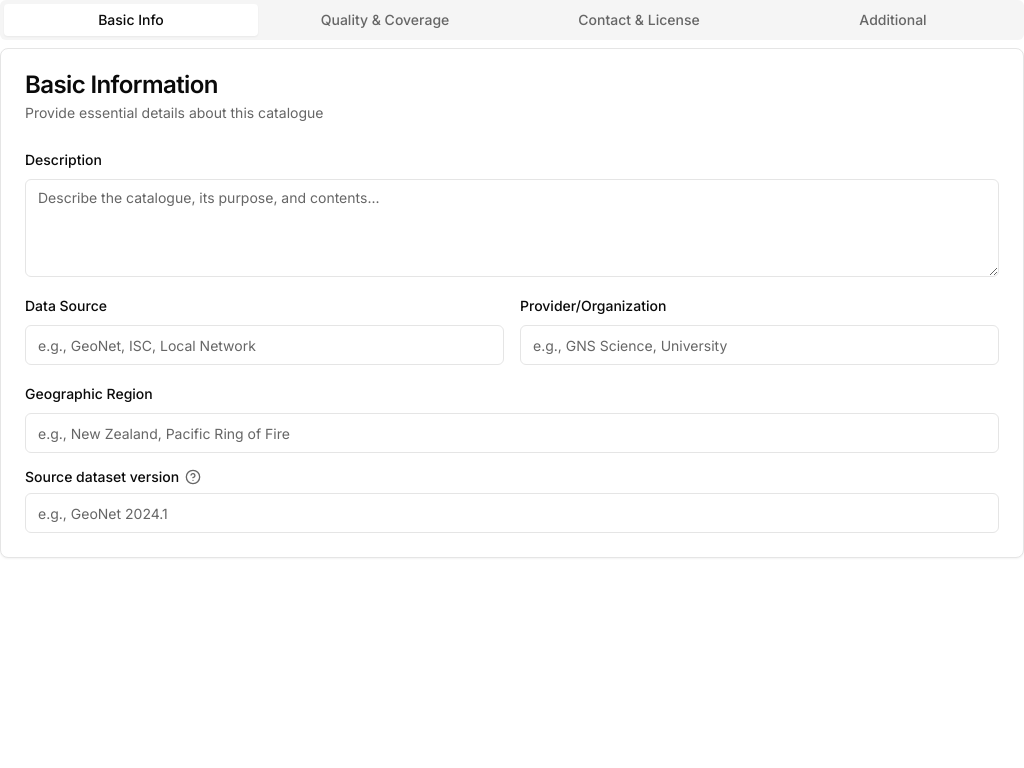
Scenario: CatalogueMetadataForm — Time Period UTC handling (gc#6) › converts a stored UTC ISO string back to the datetime-local display shape
The width and height of the screenshot is (1024, 768).
Click the tab "Quality & Coverage".
click(385, 20)  # box [258, 4, 512, 36]
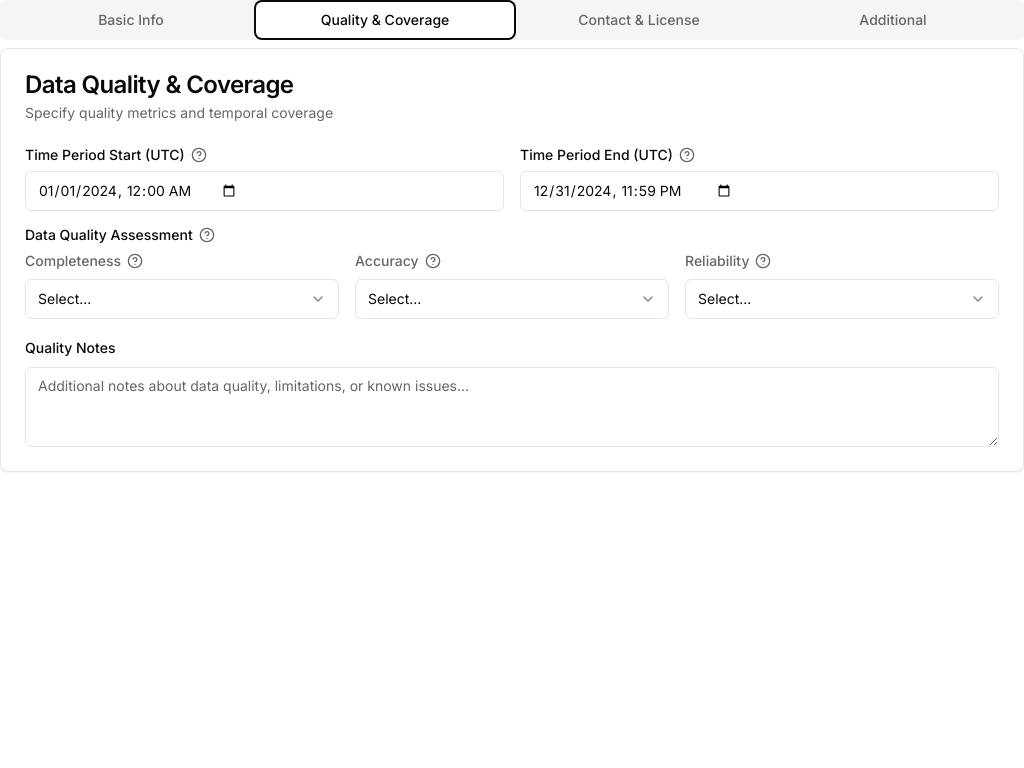
Expected: the field labelled "Time Period Start (UTC)" holds "2024-01-01T00:00", [25, 171, 504, 211]
Expected: the field labelled "Time Period End (UTC)" holds "2024-12-31T23:59", [520, 171, 999, 211]
